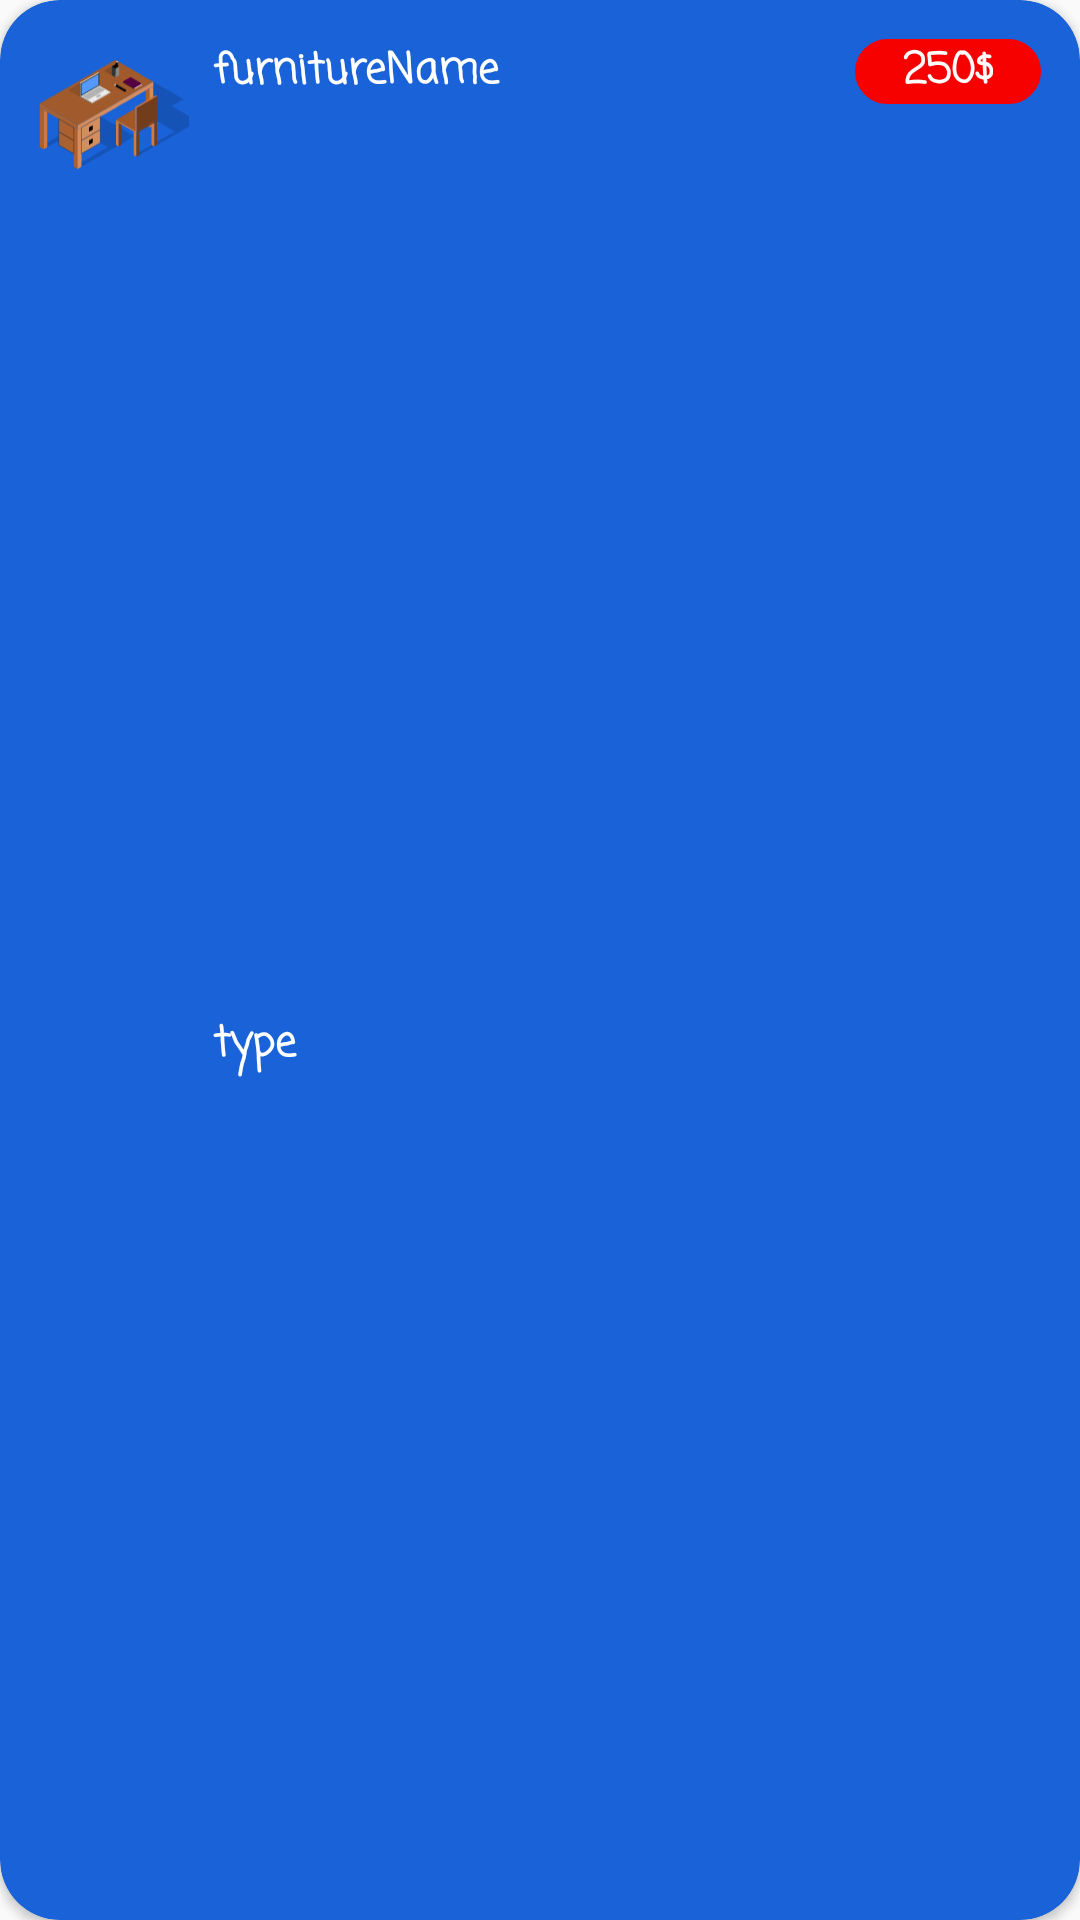

Screen size 1080px×1920px. Icon name, then its center in pixels as (x=x, y=y):
table laptop chair: (x=114, y=114)
